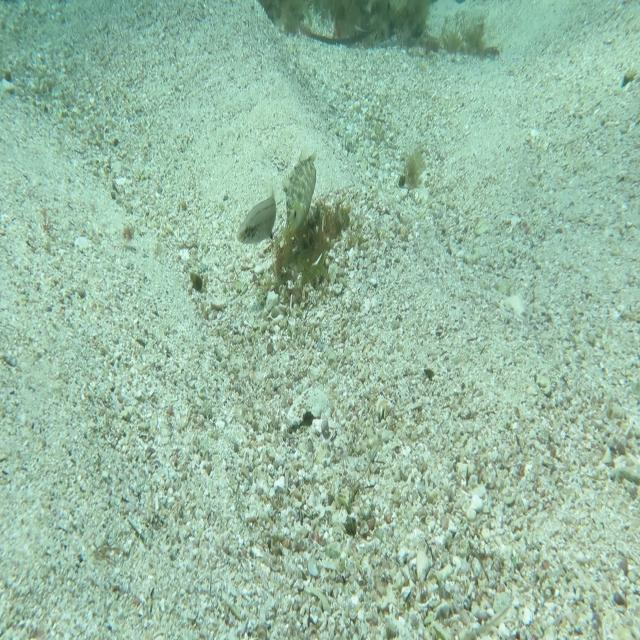ROLL: (280, 138, 323, 240)
female: (234, 182, 278, 251)
nest: (247, 192, 351, 328)
